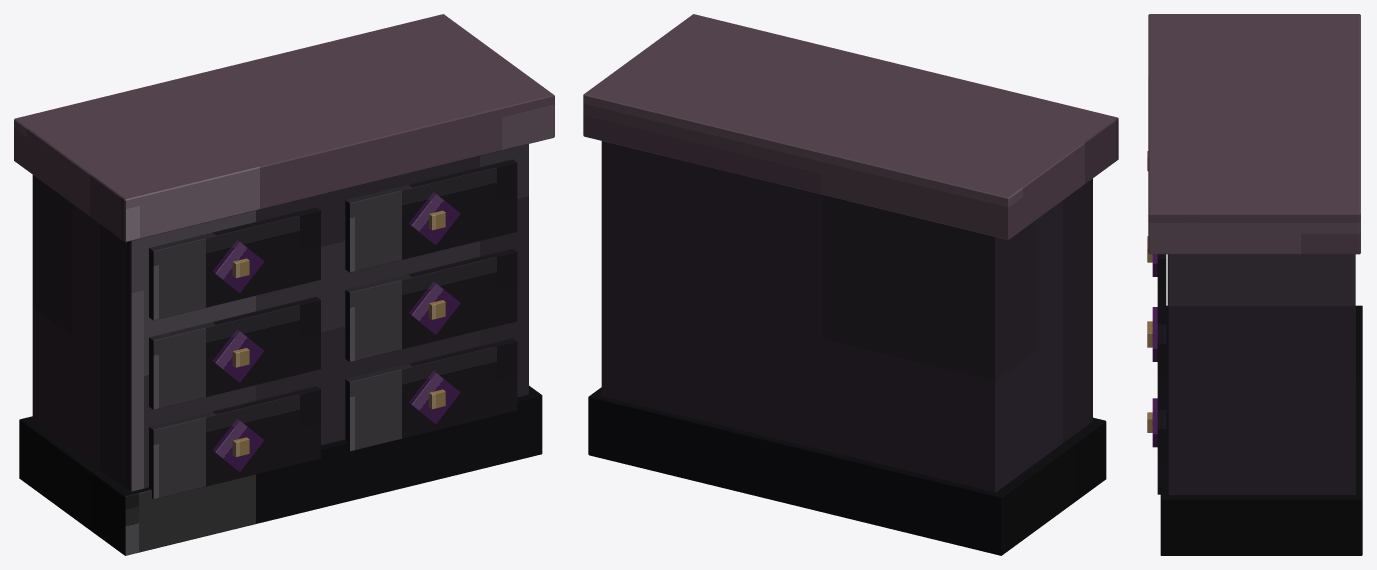
The model's file is gothic_dresser_violet.glb.
The picture shows the model from 3 angles, left to right: view 1: azimuth 30°, elevation 25°; view 2: azimuth 150°, elevation 25°; view 3: azimuth 270°, elevation 25°; orthographic projection. The views are drawn at different scales.
Parts seen in each view (by area): view 1: DresserTop, DresserBody, DresserPlinth, Drawer_0_1, Drawer_1_1, Drawer_2_1, Drawer_1_0, Drawer_0_0, Drawer_2_0, DrawerDiamond_0_1, DrawerDiamond_1_1, DrawerDiamond_0_0 (+3 smaller); view 2: DresserBody, DresserTop, DresserPlinth; view 3: DresserTop, DresserBody, DresserPlinth, Drawer_1_1, Drawer_2_1, Drawer_0_1, DrawerDiamond_2_1, DrawerDiamond_1_1.
Part boxes in pixels (bbox=[...]): DresserTop: bbox=[14, 14, 554, 242]; DresserBody: bbox=[32, 144, 528, 491]; DresserPlinth: bbox=[19, 385, 542, 555]; Drawer_0_1: bbox=[345, 159, 517, 272]; Drawer_1_1: bbox=[345, 249, 517, 361]; Drawer_2_1: bbox=[345, 338, 517, 451]; Drawer_1_0: bbox=[149, 296, 320, 409]; Drawer_0_0: bbox=[149, 207, 320, 320]; Drawer_2_0: bbox=[149, 386, 320, 499]; DrawerDiamond_0_1: bbox=[409, 192, 460, 244]; DrawerDiamond_1_1: bbox=[409, 281, 460, 334]; DrawerDiamond_0_0: bbox=[213, 240, 264, 292]; DresserBody: bbox=[601, 141, 1092, 491]; DresserTop: bbox=[583, 14, 1118, 239]; DresserPlinth: bbox=[588, 387, 1106, 555]; DresserTop: bbox=[1148, 14, 1360, 254]; DresserBody: bbox=[1167, 254, 1355, 494]; DresserPlinth: bbox=[1160, 305, 1362, 555]; Drawer_1_1: bbox=[1157, 324, 1166, 409]; Drawer_2_1: bbox=[1157, 409, 1166, 494]; Drawer_0_1: bbox=[1157, 254, 1166, 324]; DrawerDiamond_2_1: bbox=[1152, 398, 1157, 447]; DrawerDiamond_1_1: bbox=[1152, 313, 1157, 361].
Size of the model in its own units: 1.36 by 1.09 by 0.618.
Materials: 1 (1 with a texture image).
